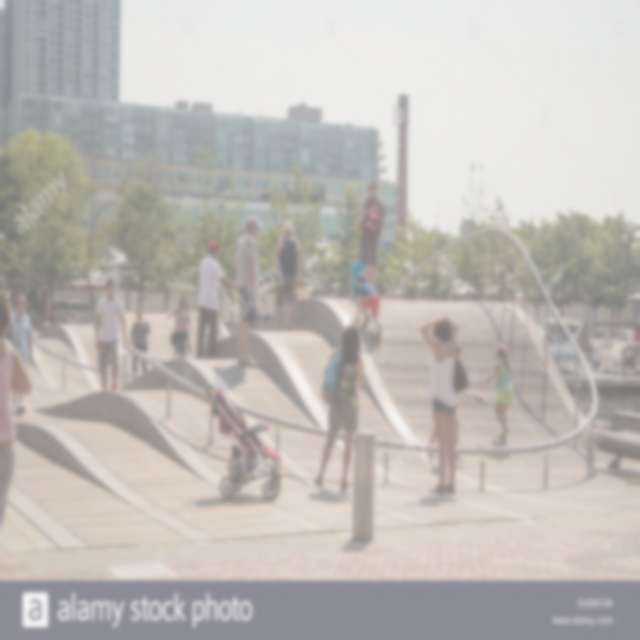pessoa: (417, 314, 470, 496), (314, 323, 368, 489), (426, 316, 466, 464), (230, 214, 265, 368), (195, 241, 239, 361), (94, 275, 130, 393), (479, 343, 516, 442), (6, 292, 34, 416), (272, 220, 302, 332), (356, 178, 386, 290), (8, 292, 32, 418), (353, 272, 383, 338), (166, 295, 196, 360), (128, 308, 152, 375), (348, 257, 366, 300), (228, 284, 240, 336), (54, 299, 62, 315), (604, 326, 612, 342), (581, 318, 588, 333)
